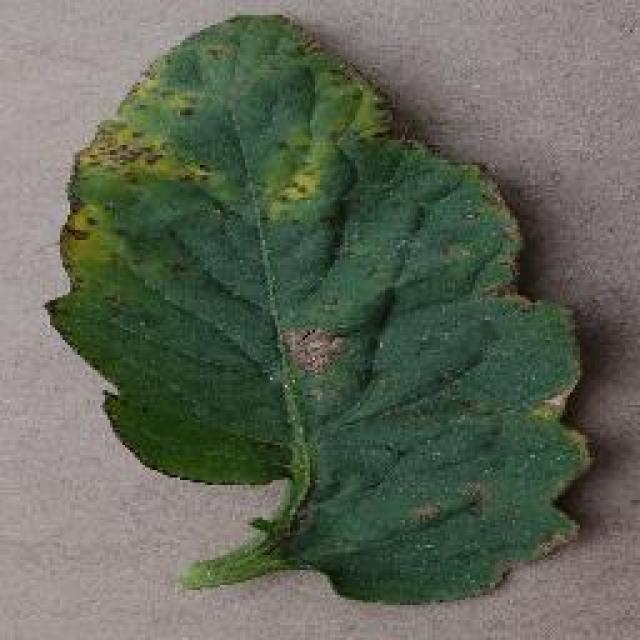Tomato___Bacterial_spot: (36, 10, 603, 609)
